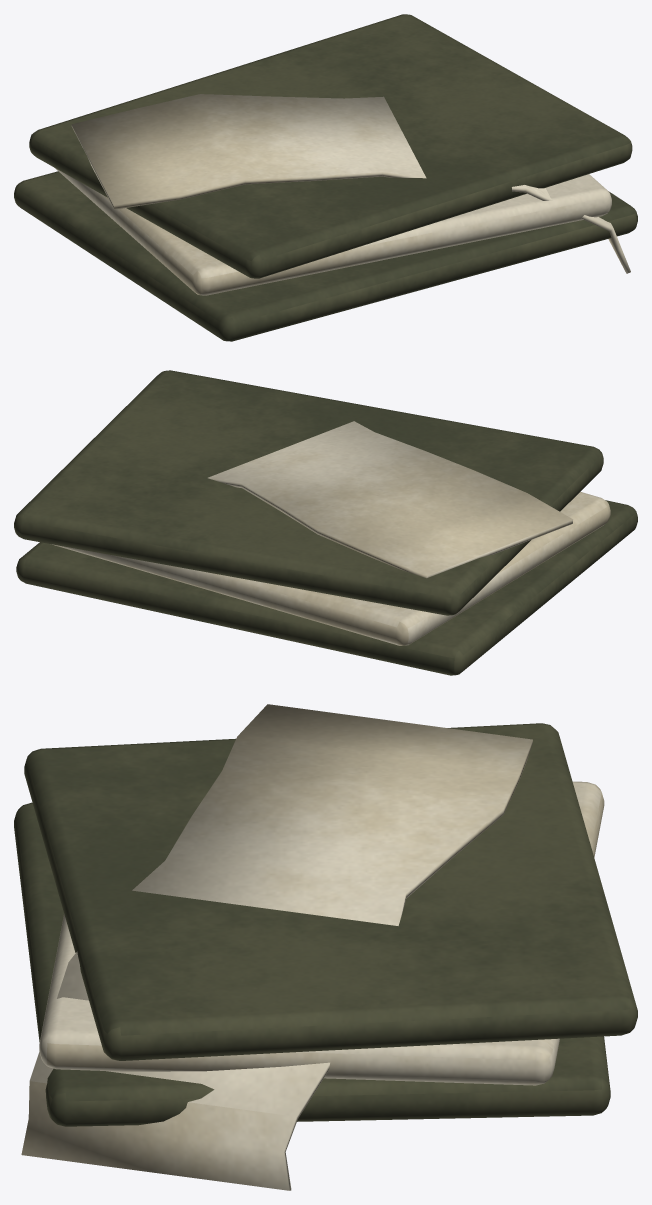
File: prop_fabric_01.gltf
3 renders of one model, top to bottom at view 1: azimuth 30°, elevation 25°; view 2: azimuth 150°, elevation 25°; view 3: azimuth 270°, elevation 25°, orthographic. The views are drawn at different scales.
Visible parts, largest first — view 1: prop_fabric_01_item_atlas_01; view 2: prop_fabric_01_item_atlas_01; view 3: prop_fabric_01_item_atlas_01.
Part boxes in pixels (x1,y1,x2,y2): prop_fabric_01_item_atlas_01: [14, 14, 637, 341]; prop_fabric_01_item_atlas_01: [14, 370, 637, 675]; prop_fabric_01_item_atlas_01: [14, 704, 637, 1190].
Size of the model in its own units: 0.1679 by 0.0395 by 0.1328.
Materials: 1 (1 with a texture image).
